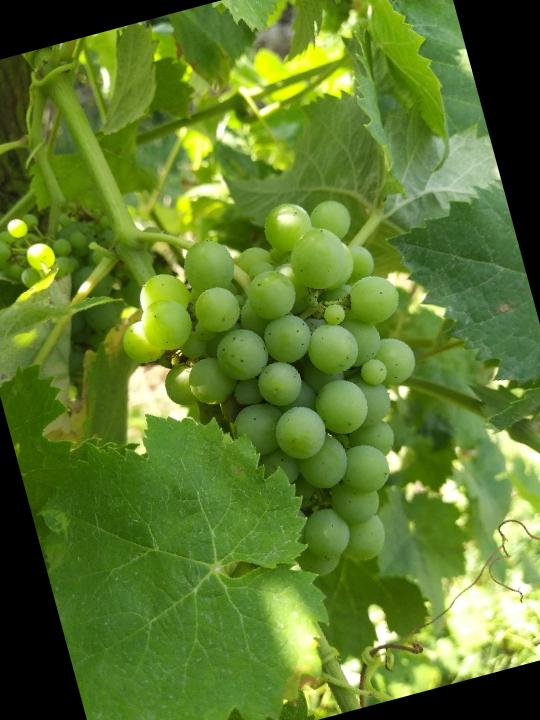grape: (97, 180, 466, 610)
